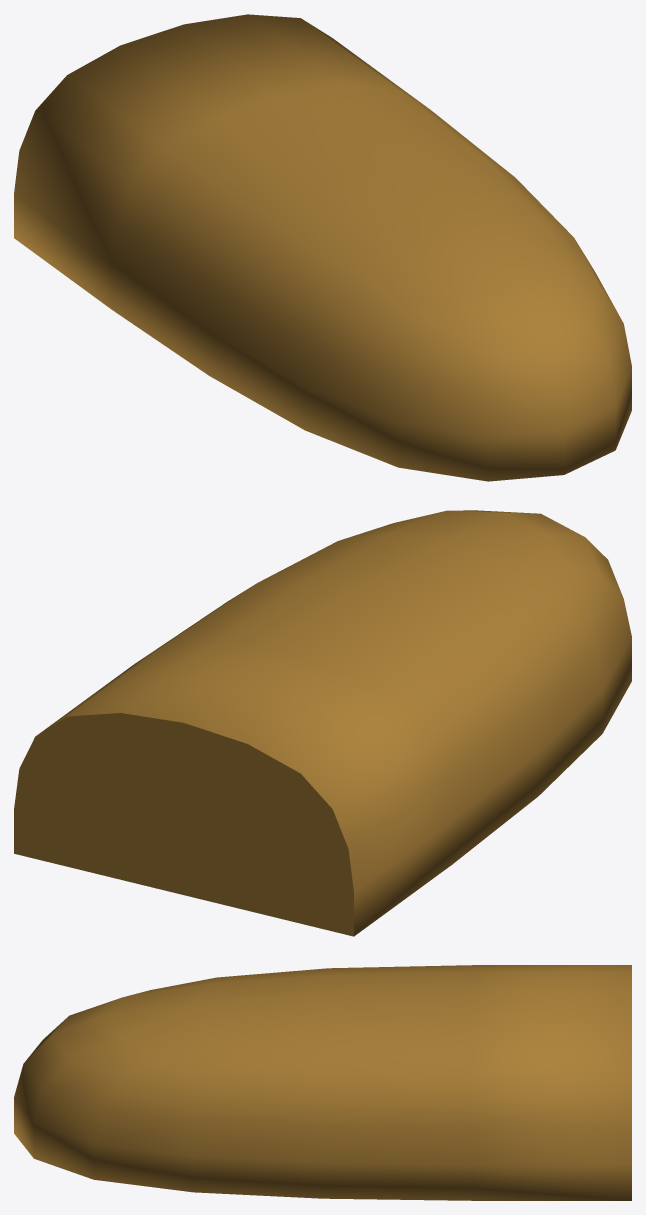
Rendered from Bread.Top.fbx.
3 renders of one model, top to bottom at view 1: azimuth 30°, elevation 25°; view 2: azimuth 150°, elevation 25°; view 3: azimuth 270°, elevation 25°, orthographic. The views are drawn at different scales.
Parts seen in each view (by area): view 1: Bun.Upper; view 2: Bun.Upper; view 3: Bun.Upper.
Boxes of the visible parts, box(x1,y1,x2,y2) form: Bun.Upper: box(14, 14, 631, 481); Bun.Upper: box(14, 510, 631, 936); Bun.Upper: box(14, 965, 631, 1200).
Bounding box in the file's own units: 6.1 × 2.95 × 11.81.
